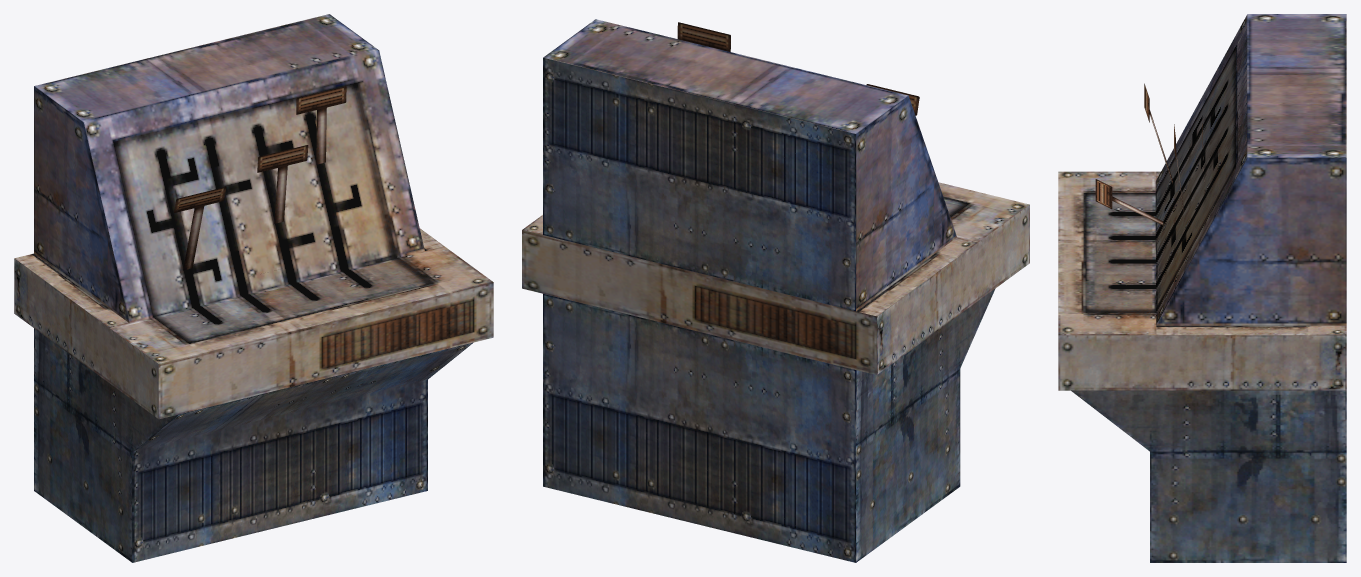
The model's file is lab-console.glb.
The picture shows the model from 3 angles, left to right: view 1: azimuth 30°, elevation 25°; view 2: azimuth 150°, elevation 25°; view 3: azimuth 270°, elevation 25°; orthographic projection. The views are drawn at different scales.
Parts seen in each view (by area): view 1: Object05; view 2: Object05; view 3: Object05.
Boxes of the visible parts, x1,y1,x2,y2 form: Object05: (14, 14, 493, 562); Object05: (522, 19, 1029, 562); Object05: (1058, 14, 1346, 562).
Bounding box in the file's own units: 0.05 × 0.0579 × 0.0373.
Materials: 2 (2 with a texture image).
